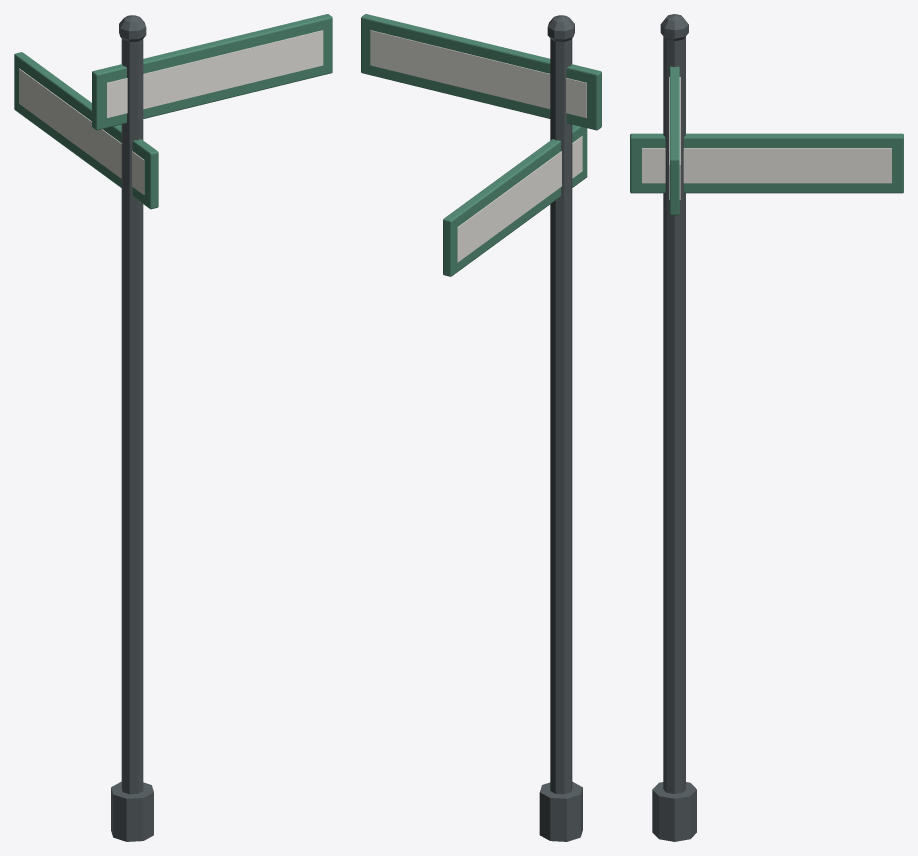
File: sign_post.glb
3 renders of one model, left to right at view 1: azimuth 30°, elevation 25°; view 2: azimuth 150°, elevation 25°; view 3: azimuth 270°, elevation 25°, orthographic.
Parts seen in each view (by area): view 1: sign_post; view 2: sign_post; view 3: sign_post.
Boxes of the visible parts, x1,y1,x2,y2 form: sign_post: [14, 14, 332, 841]; sign_post: [361, 14, 601, 841]; sign_post: [630, 14, 903, 841].
Bounding box in the file's own units: 0.92 × 3.03 × 0.92.
